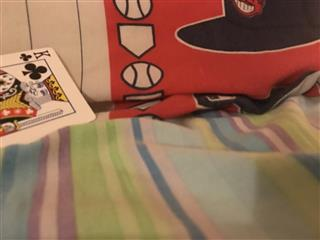KingOfClubs: (1, 46, 96, 148)
